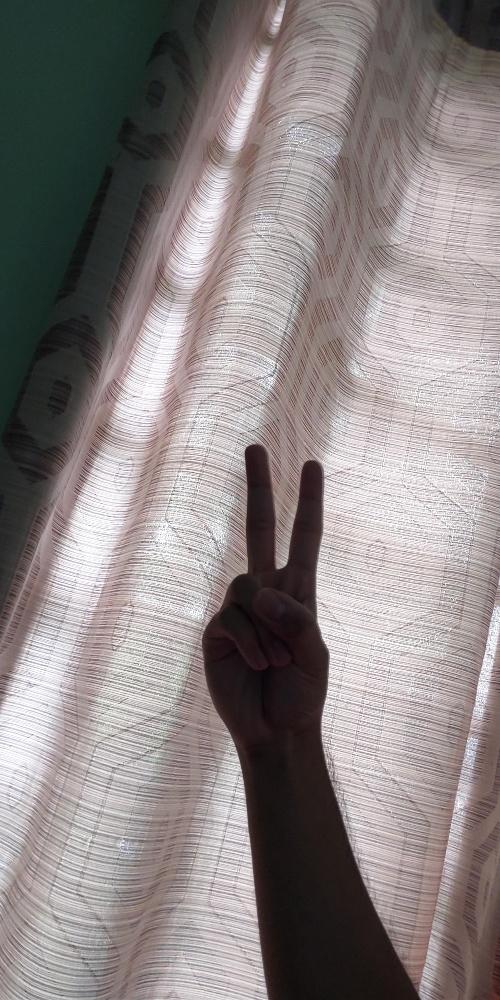v: (201, 441, 330, 745)
